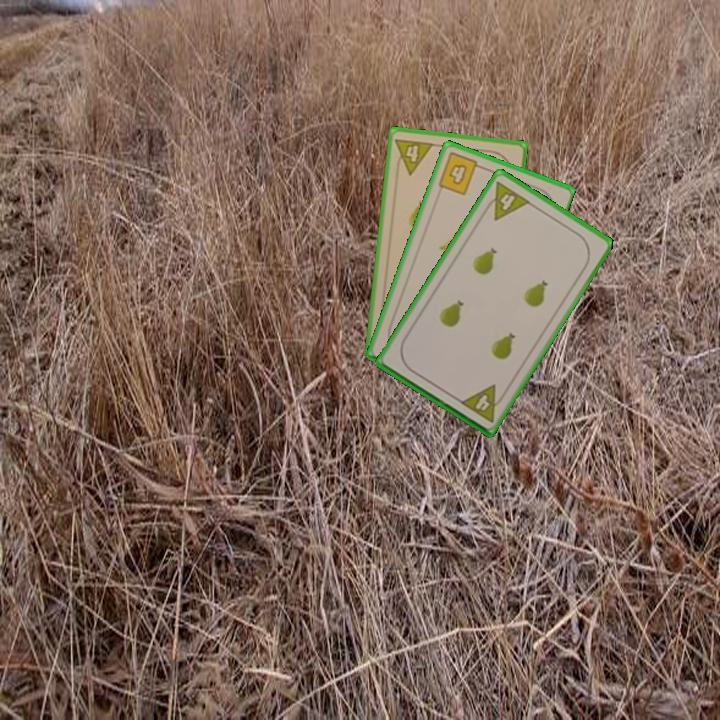4b: (434, 148, 487, 198)
4p: (479, 177, 533, 223), (456, 381, 509, 425), (392, 134, 436, 177)
